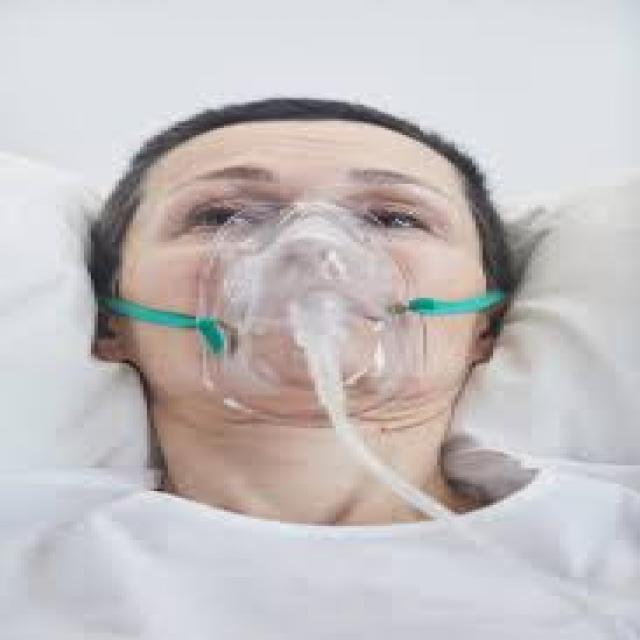oxygen_mask: (196, 213, 441, 468)
